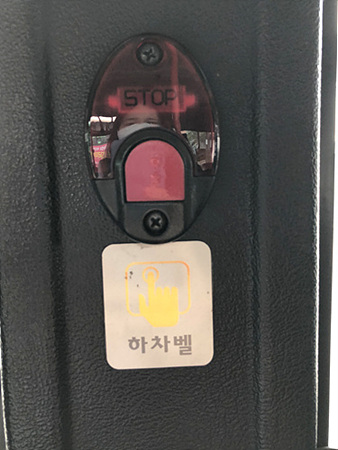bell: (85, 30, 220, 244)
